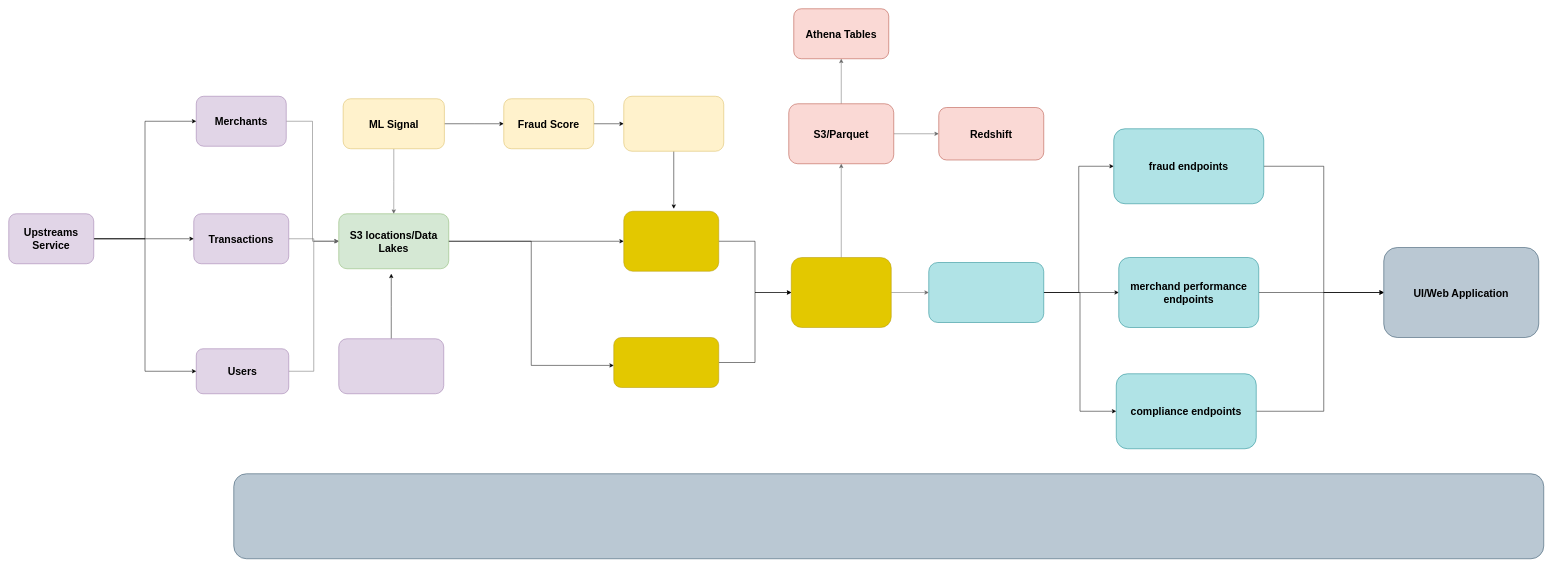
Some shapes in this 1553 by 568 pixel diagram are drawn without their labels. Each missing label, with the centre of its shape:
"APIs/Service Downstreams" goes at (x=986, y=292).
"Batch Index" goes at (x=666, y=362).
"Deployments EMR for Batch Jobs EKS ECR- Dockers images" goes at (x=888, y=516).
"Final Index /S3" goes at (x=841, y=292).
"Policy" goes at (x=391, y=366).
"Stream Index" goes at (x=671, y=241).
"Stream source/Topics" goes at (x=673, y=123).
